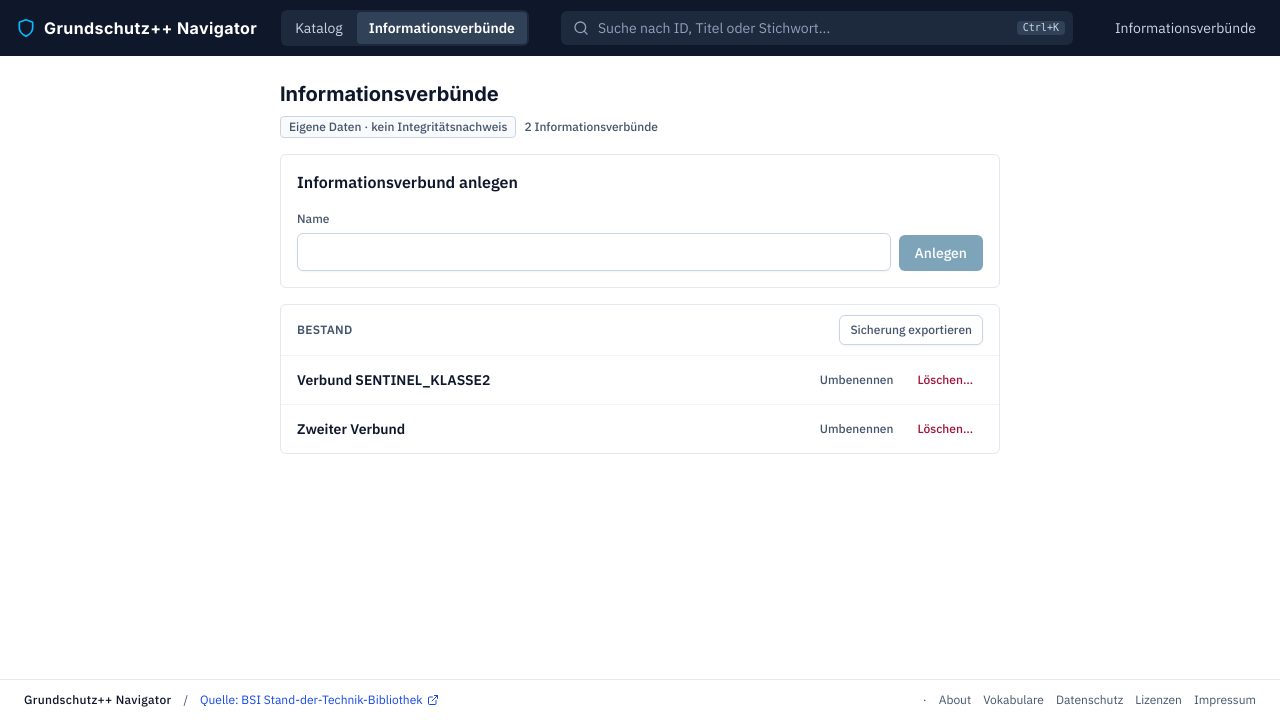
Scenario: Übersicht der Informationsverbünde › benennt einen Verbund im Speicher um
The image size is (1280, 720).
Click the button "Umbenennen" in the row of "Zweiter Verbund".
click(857, 429)  # box [810, 415, 904, 443]
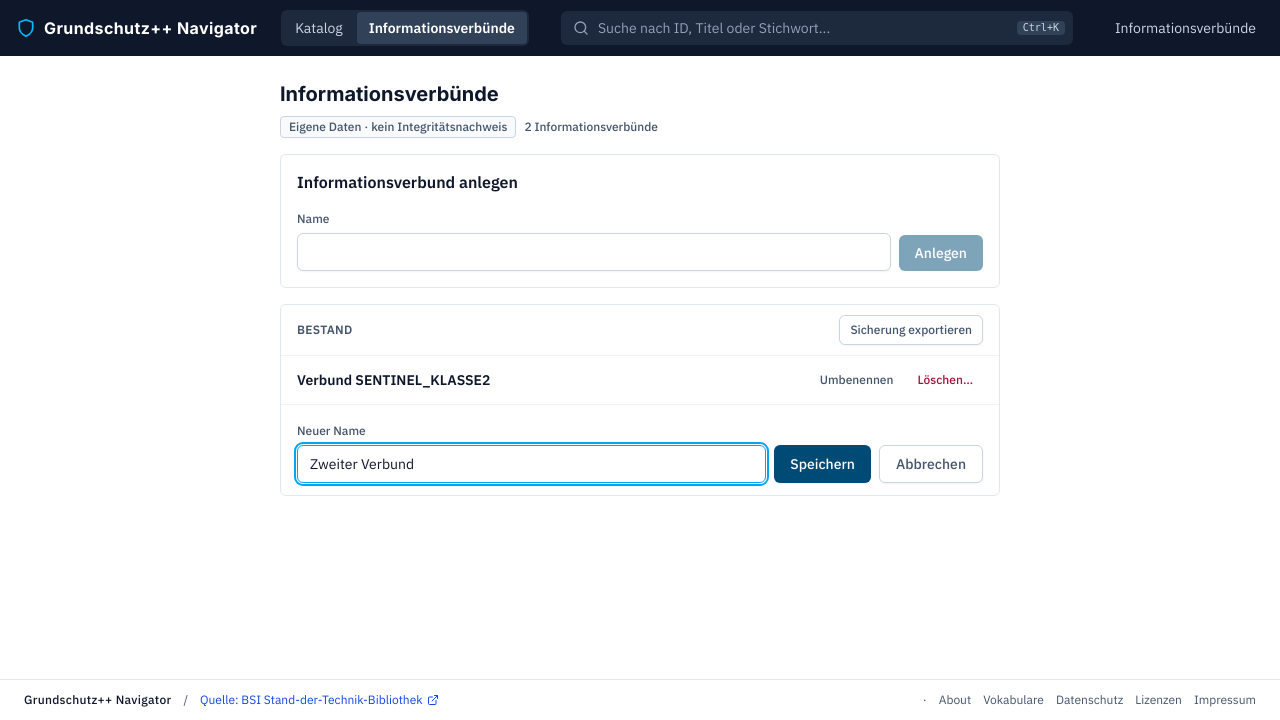
Replace the text in the field labelled "Neuer Name" with "Standort Süd" at (532, 464), box [297, 445, 766, 483]
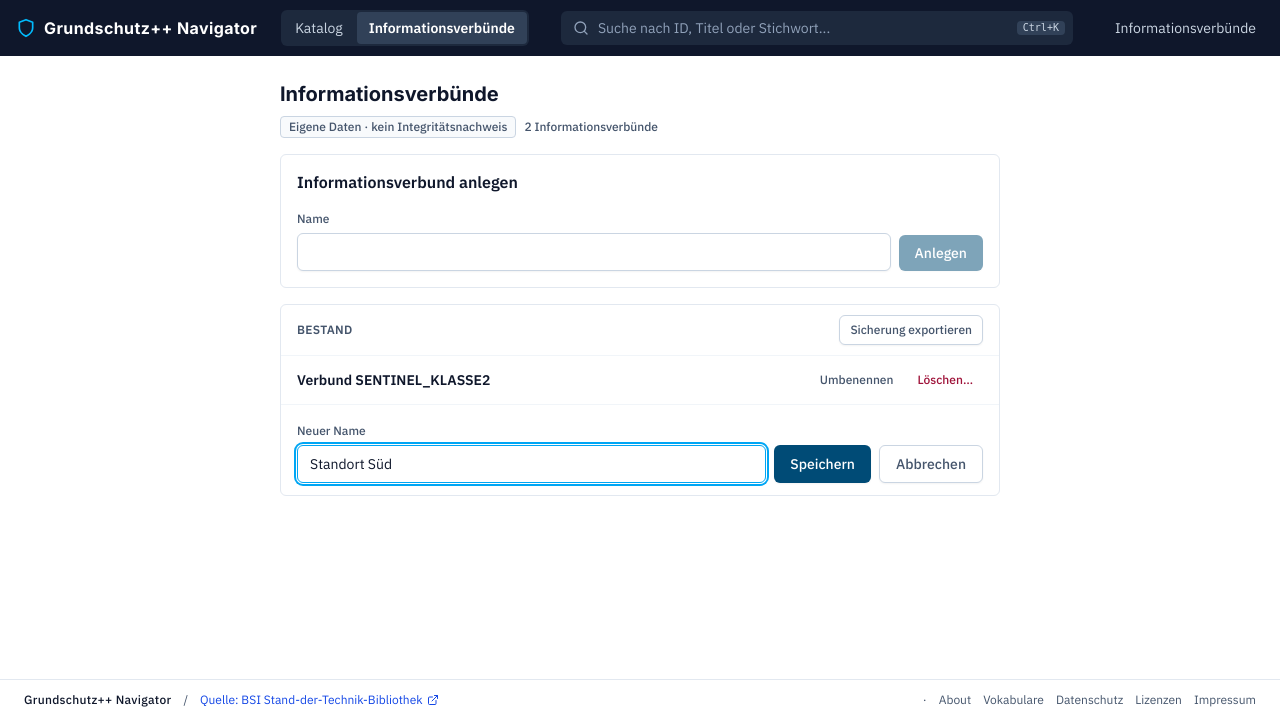
Click the button "Speichern".
click(823, 464)  # box [774, 445, 871, 483]
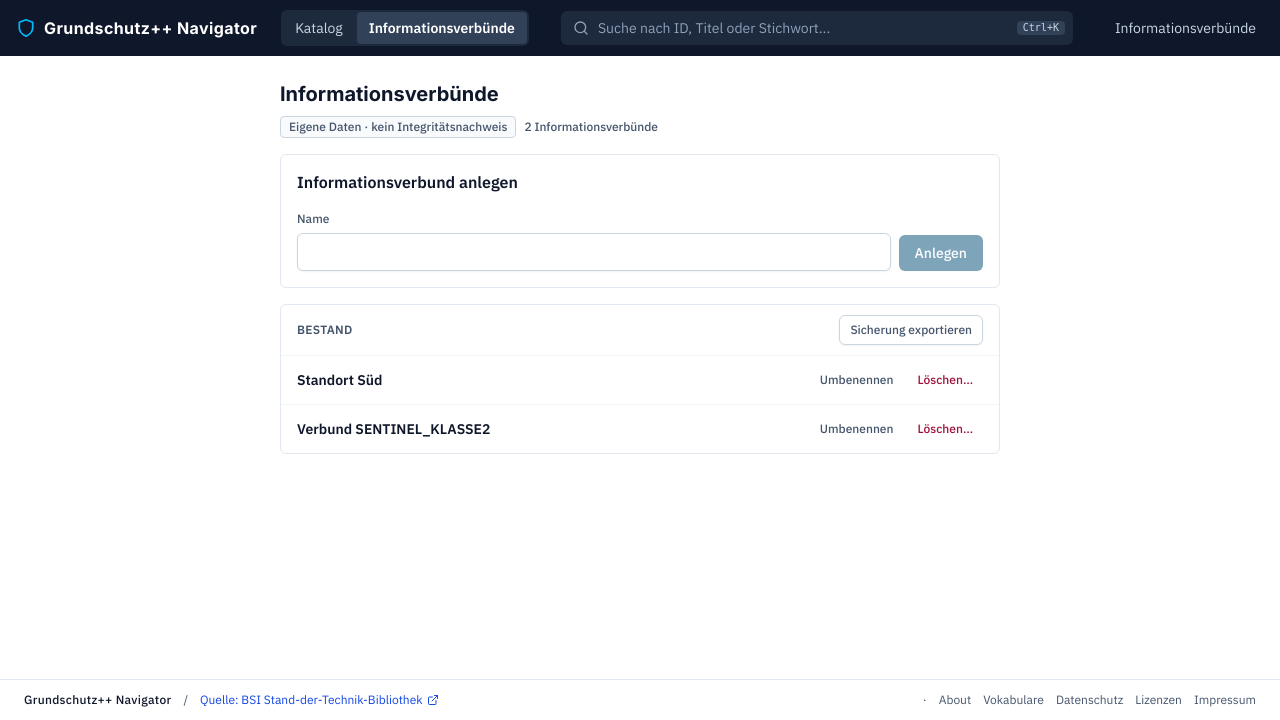
Result: the link "Standort Süd" is shown at [297, 371, 382, 389]
